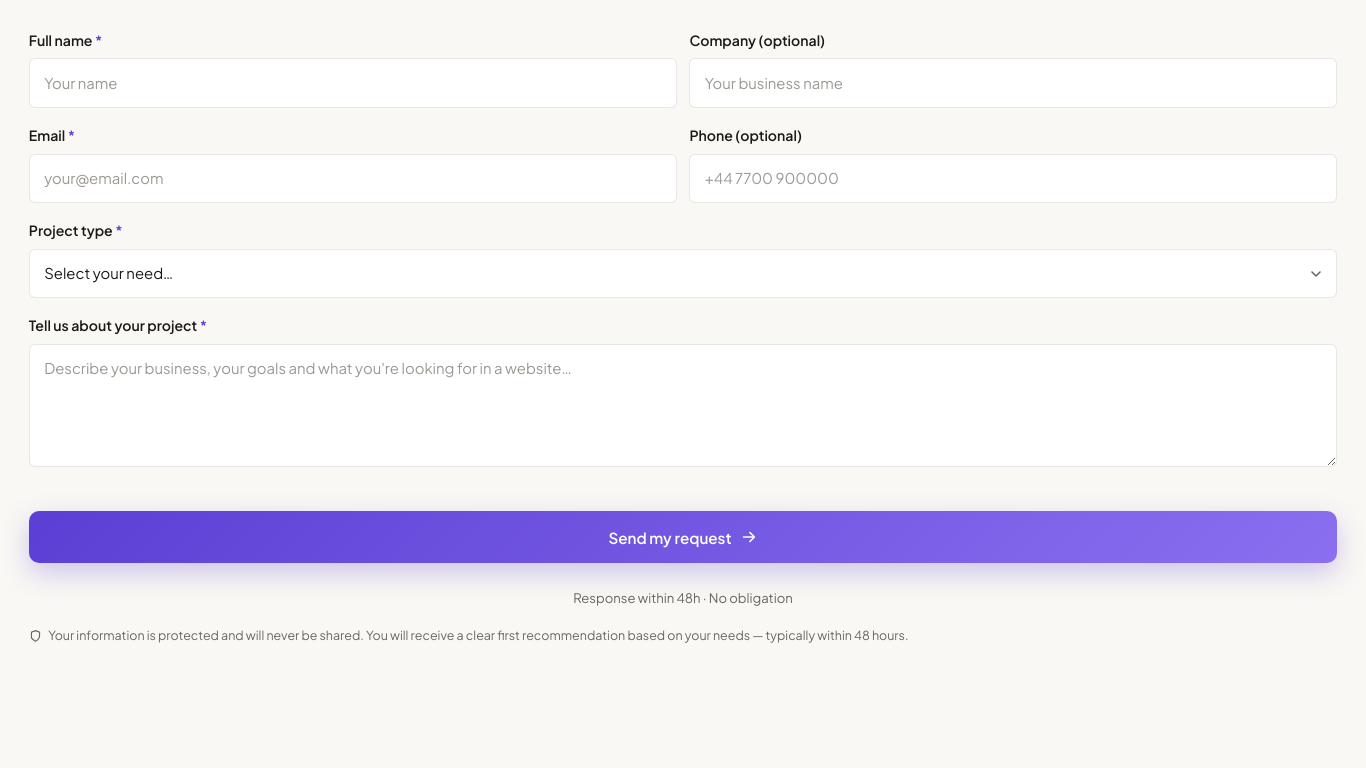
Test: ContactForm › never surfaces the (French) server error message on EN — keeps its fixed English fallback
In the field with placeholder "Your name": (353, 83) [29,58,677,108], type "Alice"
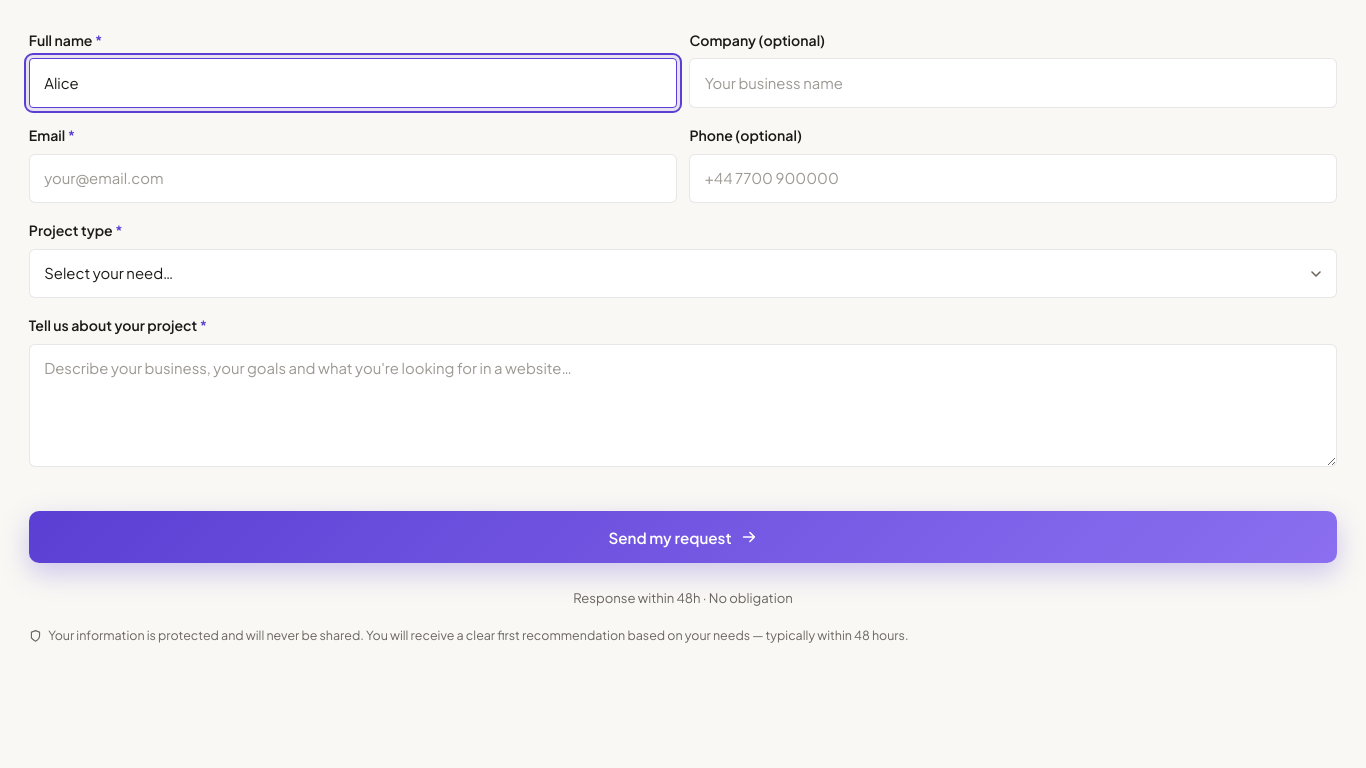
In the field with placeholder "your@email.com": (353, 178) [29,154,677,203], type "alice@test.com"
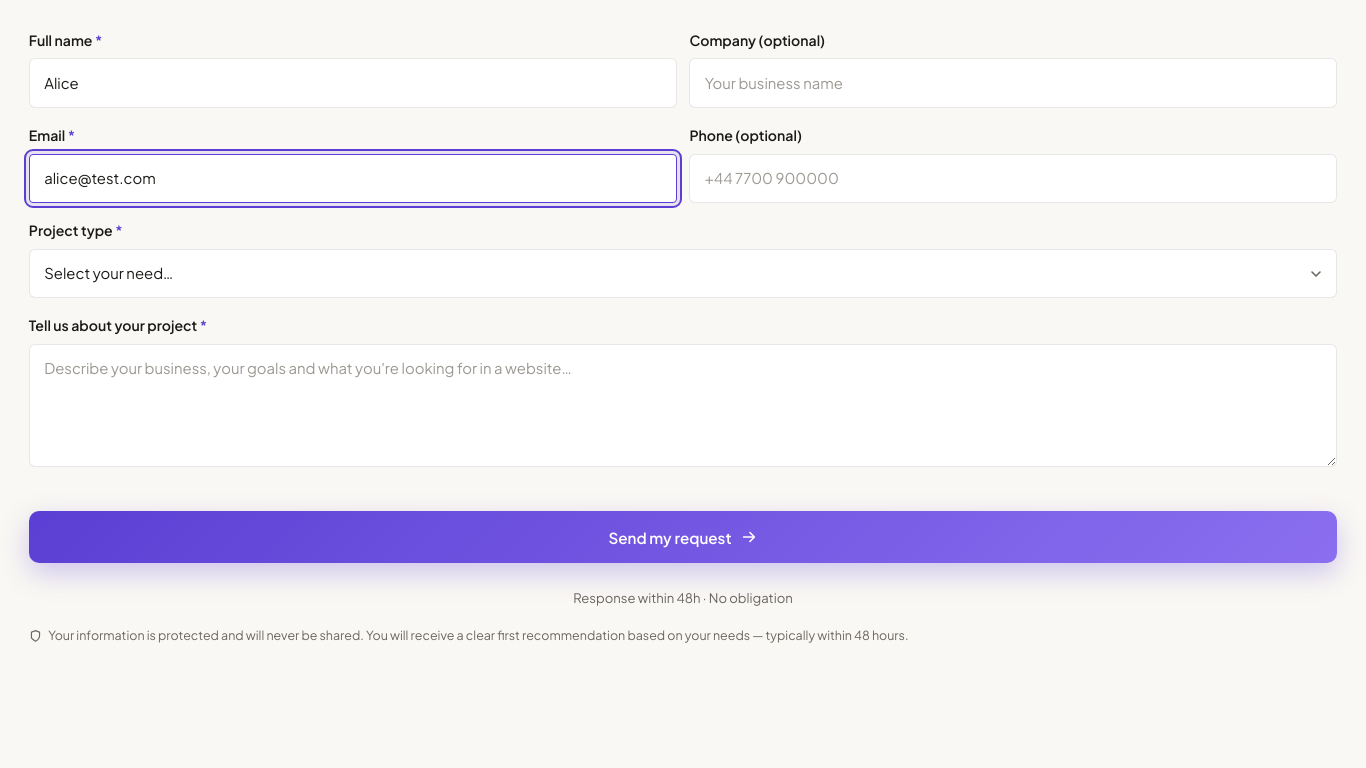
In the text box with placeholder "Describe your business, your goals and what you're looking for in a website…": (683, 406) [29,344,1337,467], type "Un message de test suffisamment long."
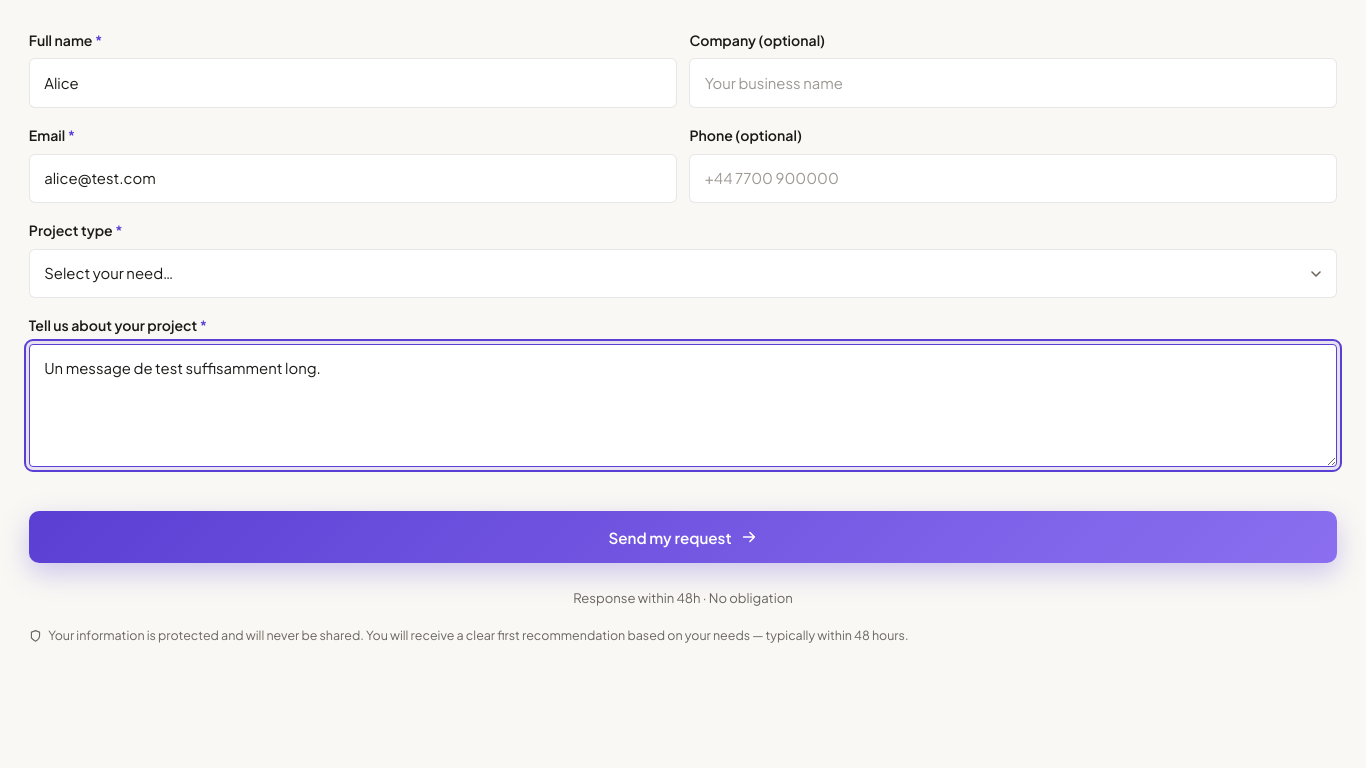
Select "New website" in the dropdown: (683, 274) [29,249,1337,298]
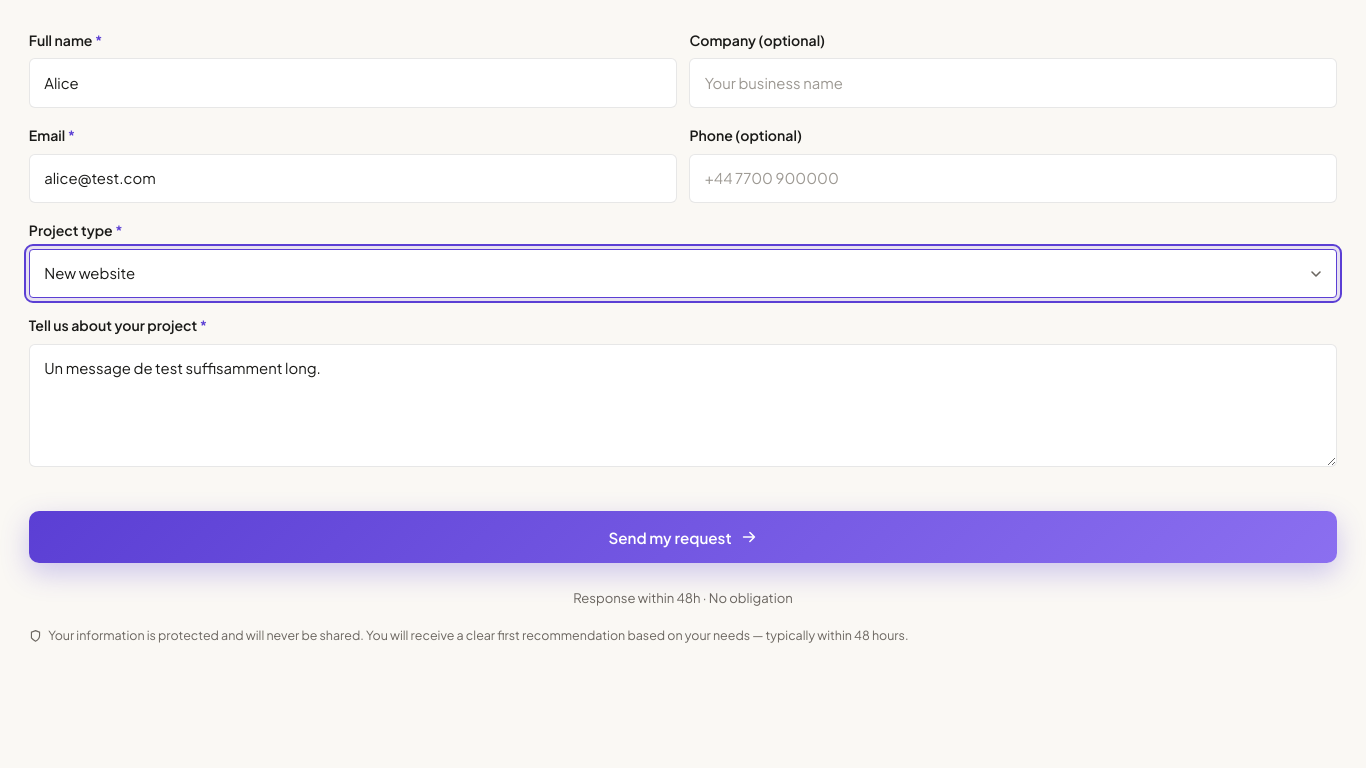
Click the button "Send my request": (683, 537) [29,511,1337,563]
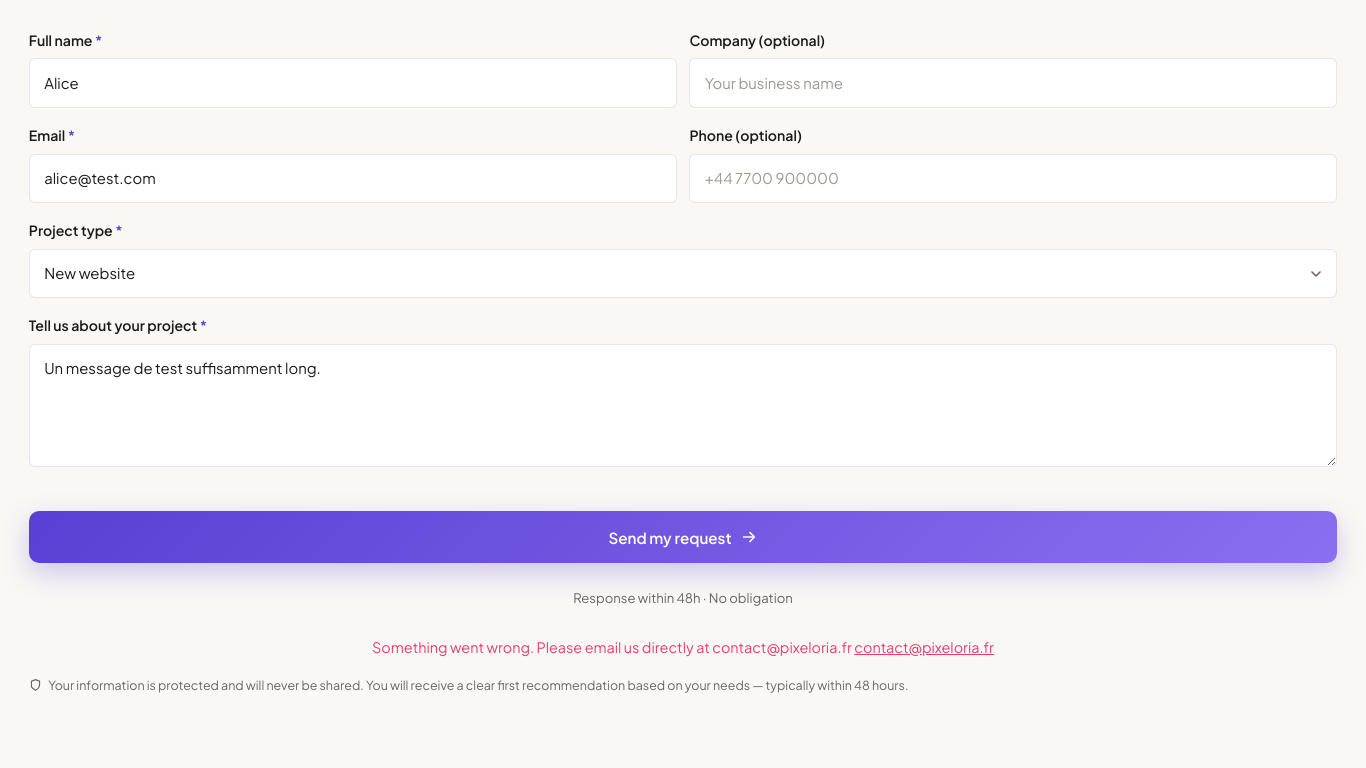
Expected: the message does not show "Trop de tentatives", [372,638,994,656]
Result: the message is shown at [372,638,994,656]
Result: the message shows "Something went wrong" at [372,638,852,656]
